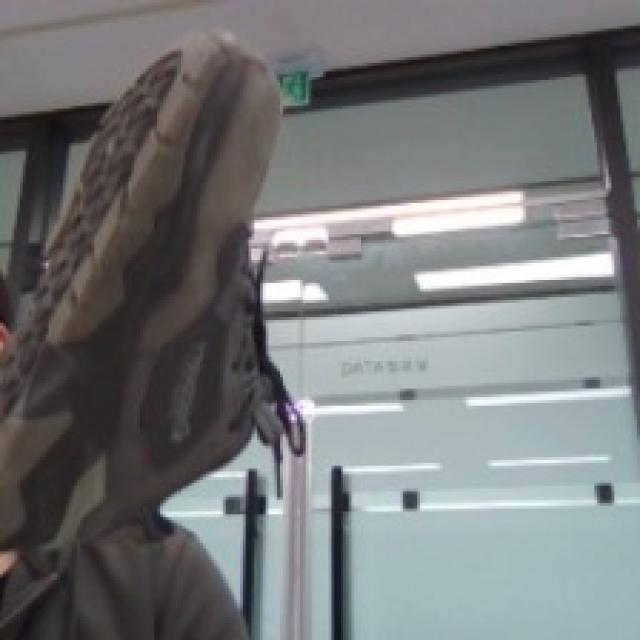shoe: (0, 25, 311, 551)
